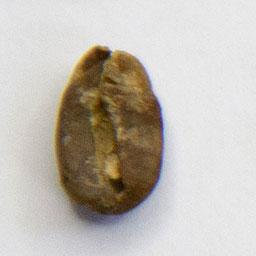defect: (51, 43, 168, 218)
